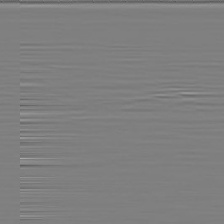cavities: (180, 47, 224, 117), (122, 81, 157, 105)
